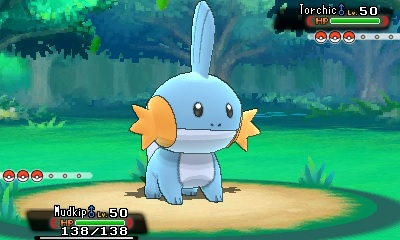mudkip: (129, 3, 261, 213)
